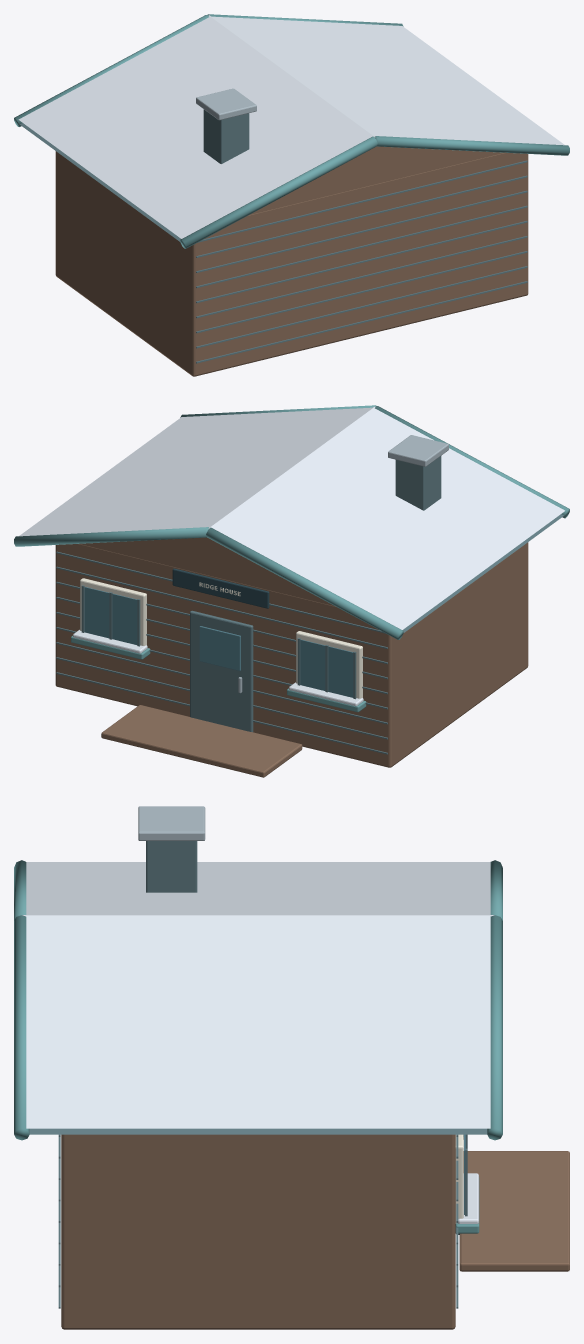
File: Hut.fbx
3 renders of one model, top to bottom at view 1: azimuth 30°, elevation 25°; view 2: azimuth 150°, elevation 25°; view 3: azimuth 270°, elevation 25°, orthographic. The views are drawn at different scales.
Visible parts, largest first — view 1: Visual_Hut; view 2: Visual_Hut; view 3: Visual_Hut.
Part boxes in pixels (x1=…): Visual_Hut: x1=14, y1=14, x2=569, y2=376; Visual_Hut: x1=14, y1=405, x2=569, y2=777; Visual_Hut: x1=14, y1=806, x2=569, y2=1329.
Size of what is drawn, in the model's own units: 8.05 by 4.62 by 7.05.
